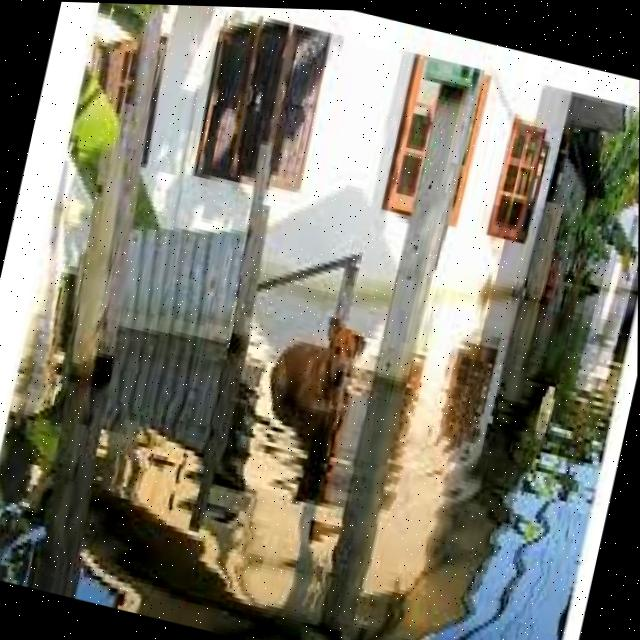dog: (251, 295, 394, 445)
